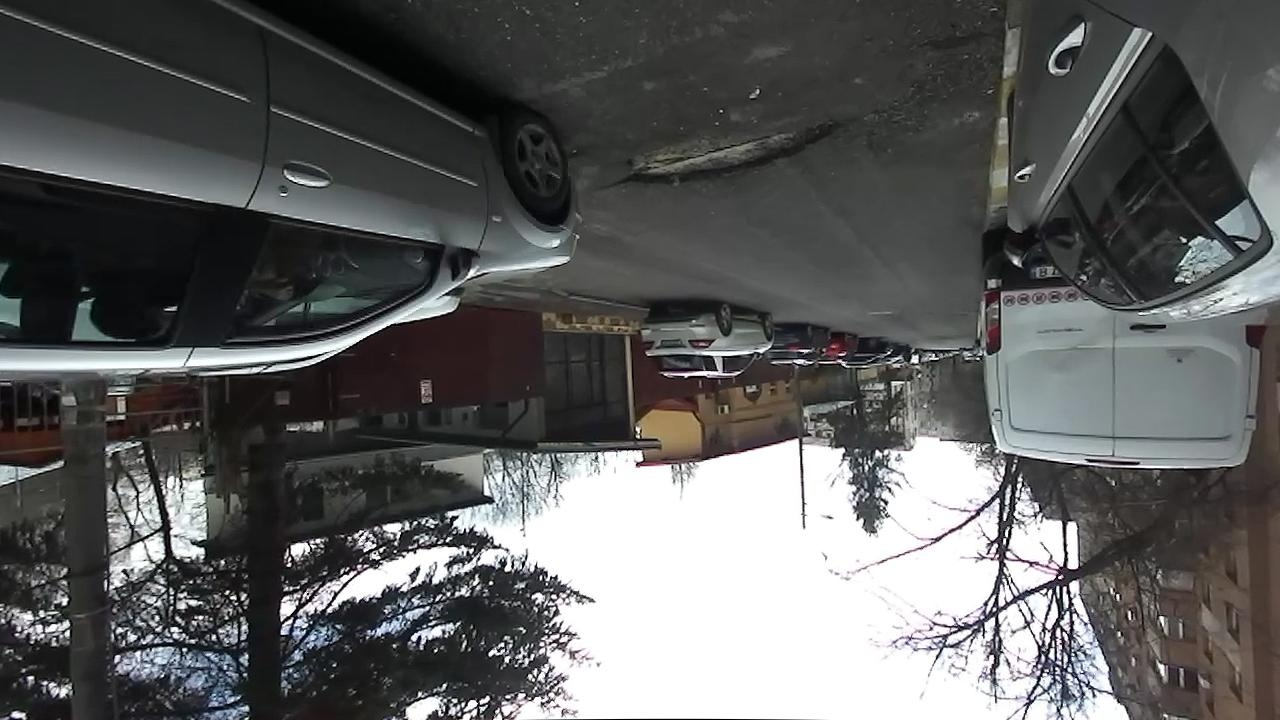pothole: (605, 108, 858, 192)
